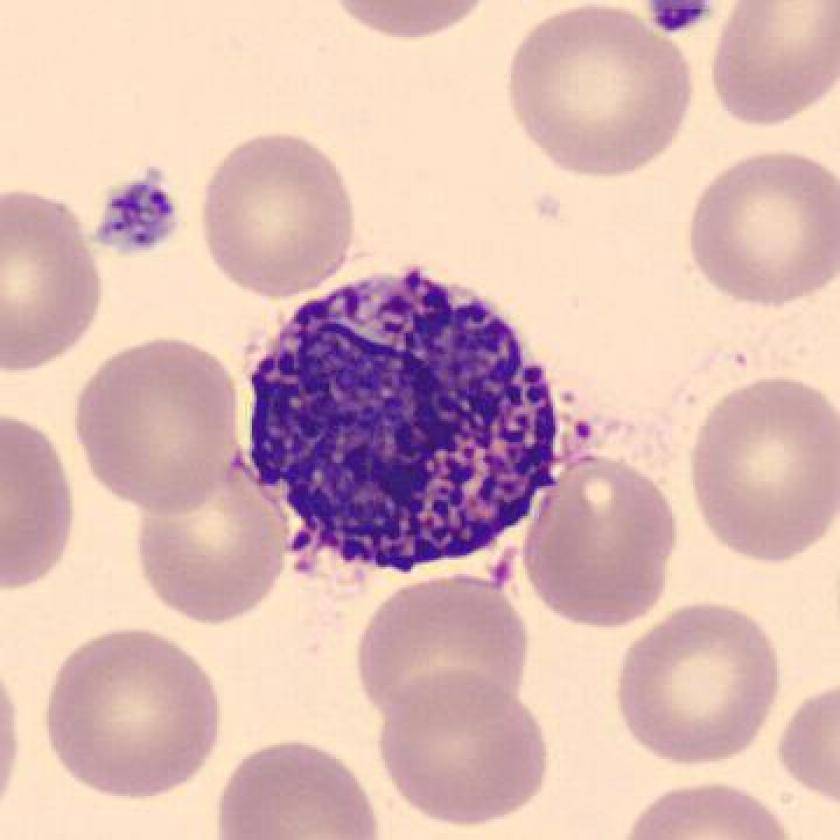basophil: (241, 267, 568, 584)
